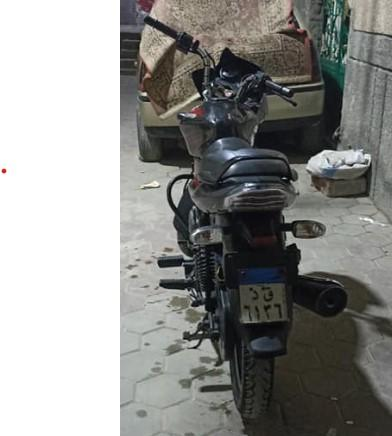License Plate: (236, 265, 292, 326)
